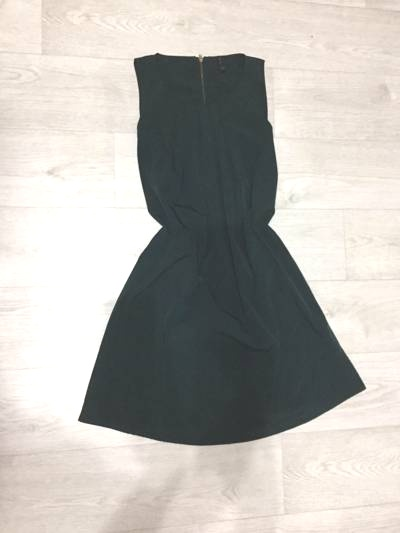Dress: (71, 40, 383, 453)
